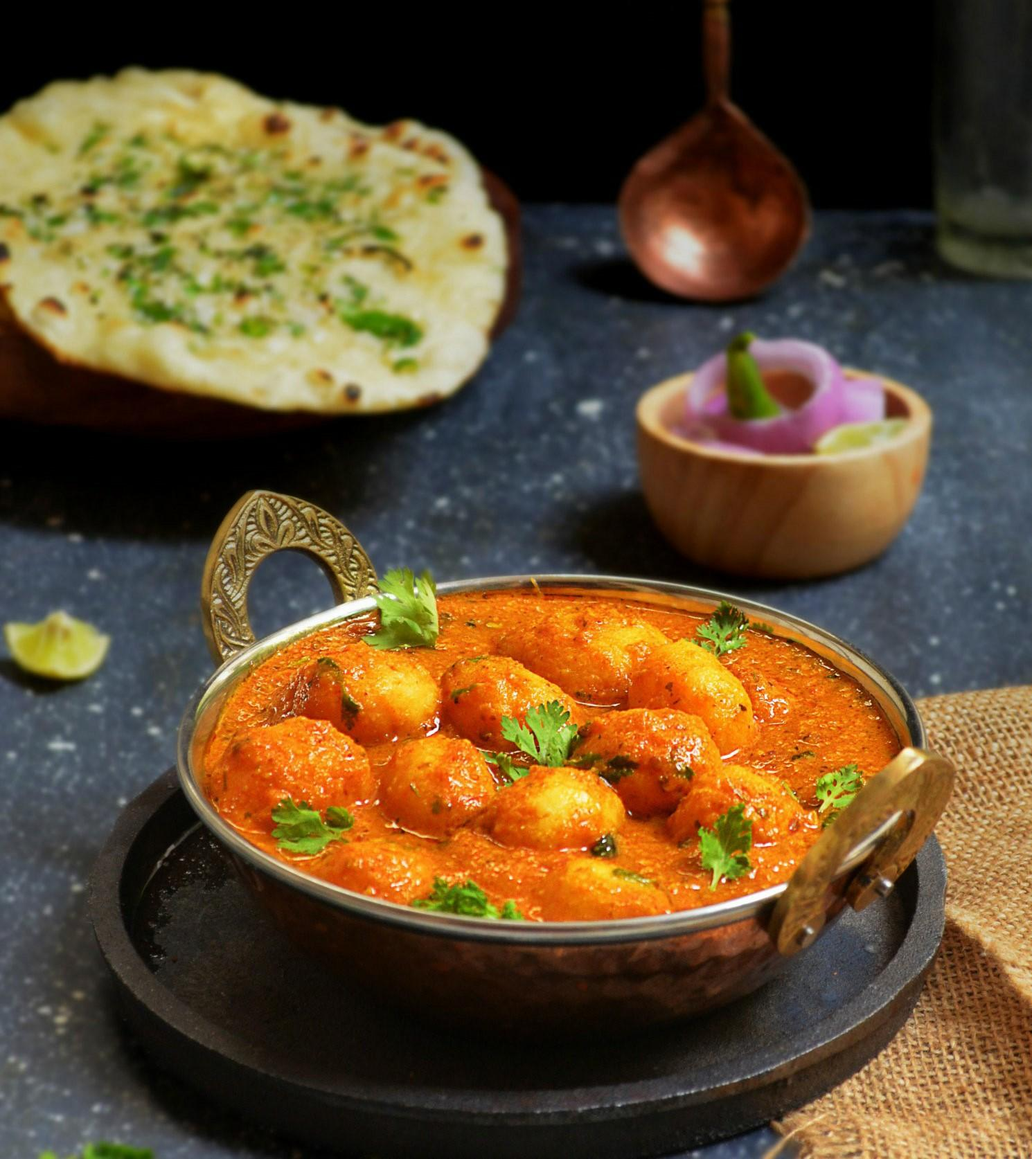DumAloo: (197, 577, 895, 925)
